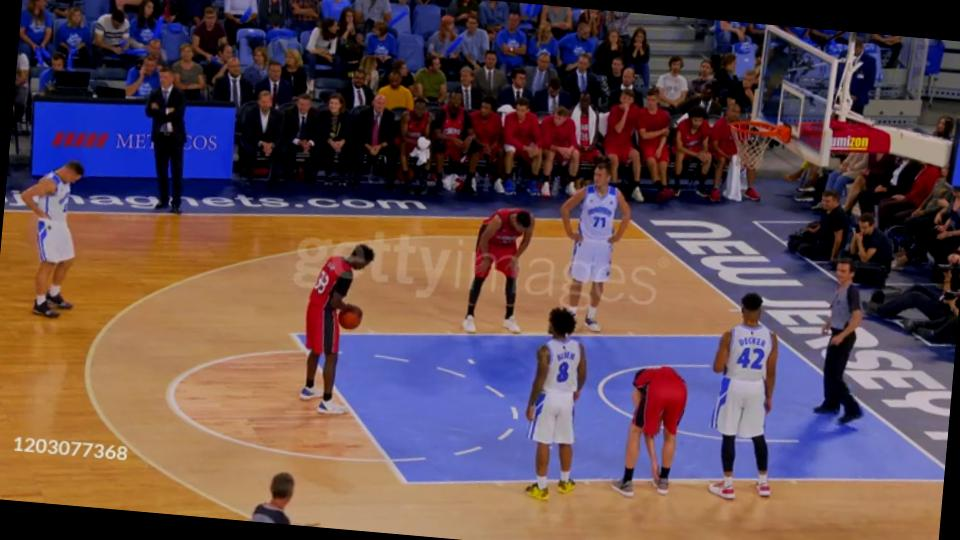hoop: (726, 116, 790, 142)
